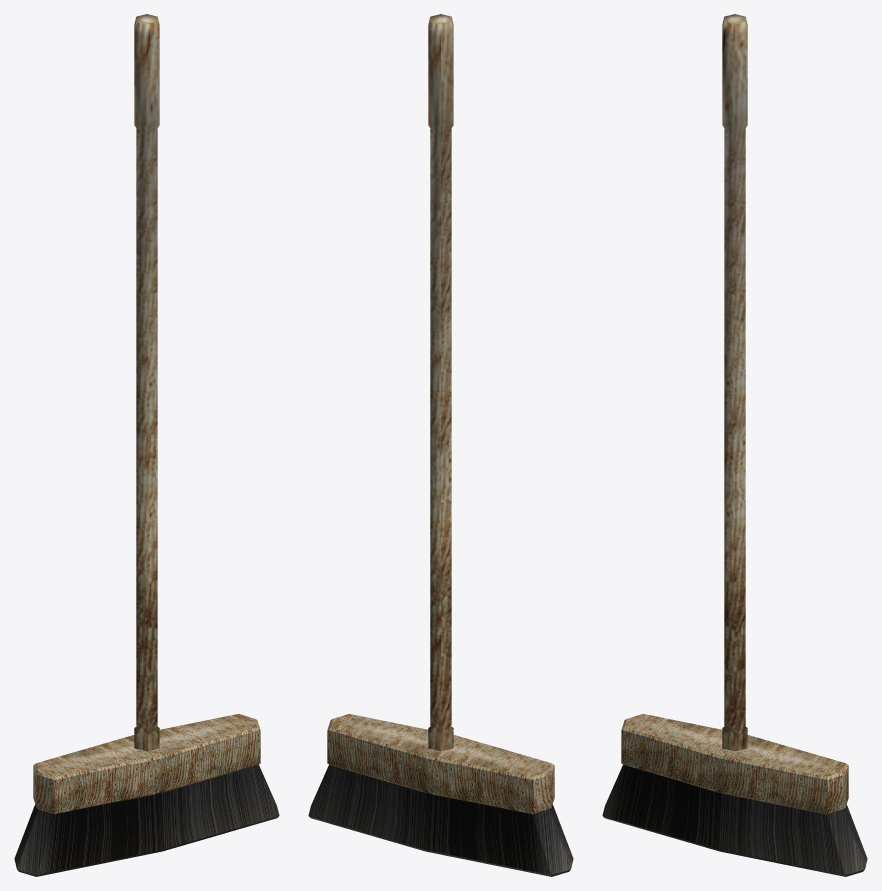
Rendered from other_broom01.dae.
3 views of the same model, side by side, from view 1: azimuth 30°, elevation 25°; view 2: azimuth 150°, elevation 25°; view 3: azimuth 330°, elevation 25° (orthographic).
Visible parts, largest first — view 1: broom; view 2: broom; view 3: broom.
Part boxes in pixels (x1,y1,x2,y2): broom: (14,14,279,876); broom: (308,14,573,876); broom: (602,14,867,876).
Size of what is drawn, in the model's own units: 0.5871 by 1.77 by 0.1308.
